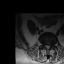CCS_stenosis: (47, 43, 48, 49)
LFS_severe_stenosis: (51, 42, 52, 47)
LLS_normal: (48, 43, 50, 48)
RFS_severe_stenosis: (43, 42, 45, 47)
RLS_normal: (45, 42, 47, 49)
